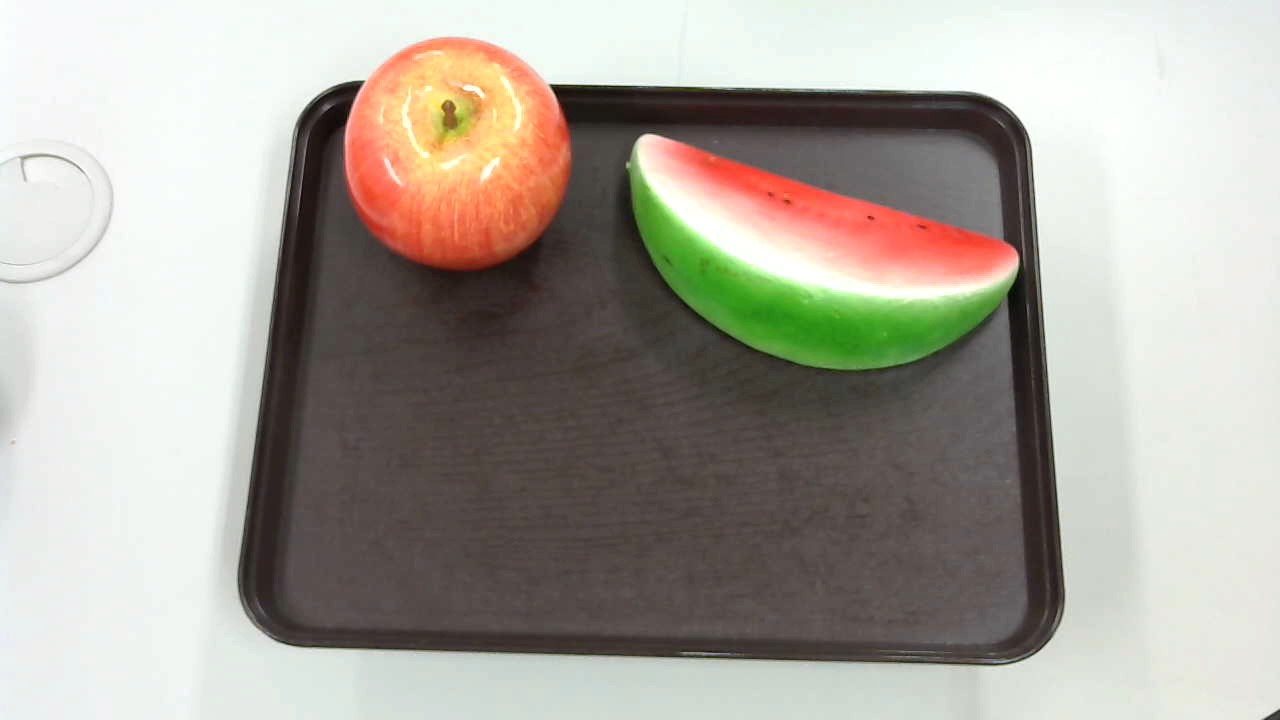red apple: (338, 34, 575, 276)
water melon: (616, 130, 1019, 374)
